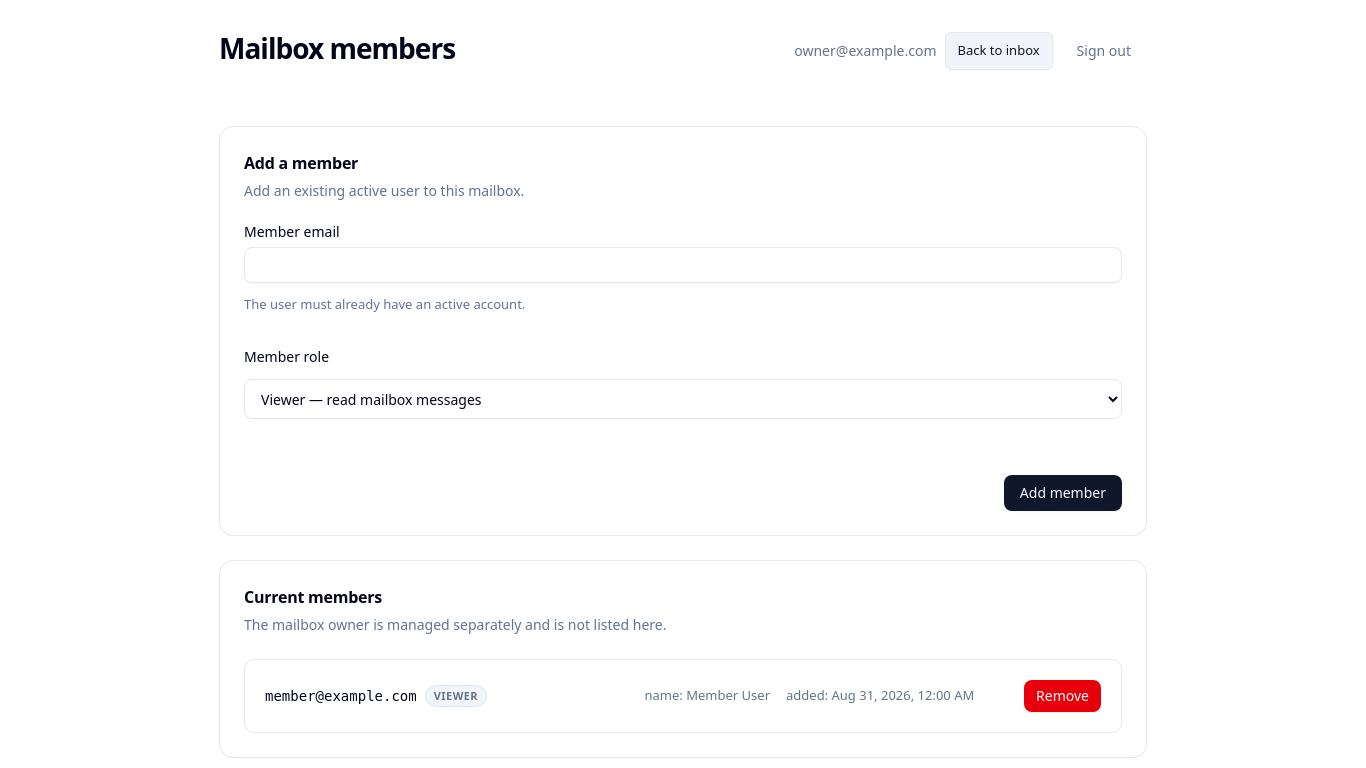
MailboxMembersPage — CAP-065 › R-API-002 R-API-003 keeps a member and exposes the remove error when deletion fails
The image size is (1366, 768).
Click the button "Remove": (1063, 696) left=1024, top=680, right=1101, bottom=712
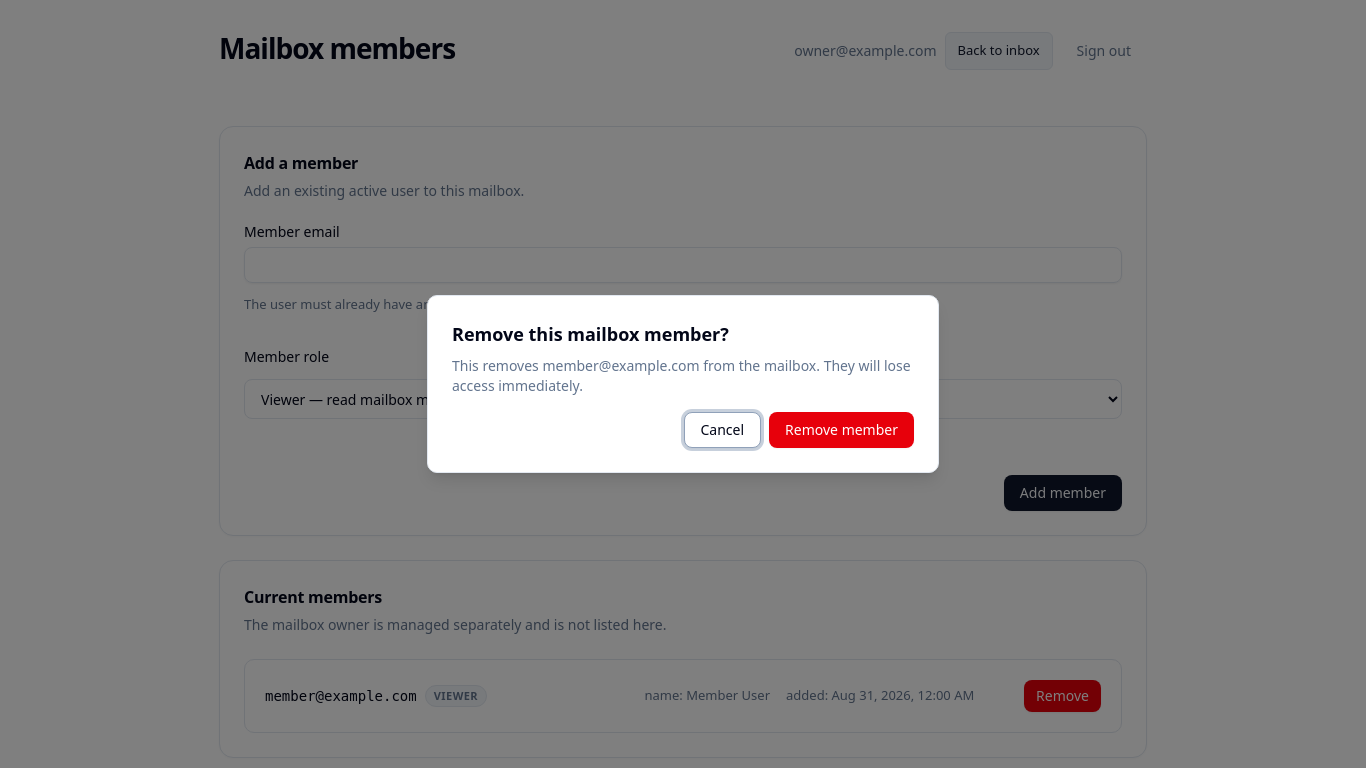
Click the button with test id "alert-dialog-confirm": (842, 430) left=769, top=412, right=914, bottom=448
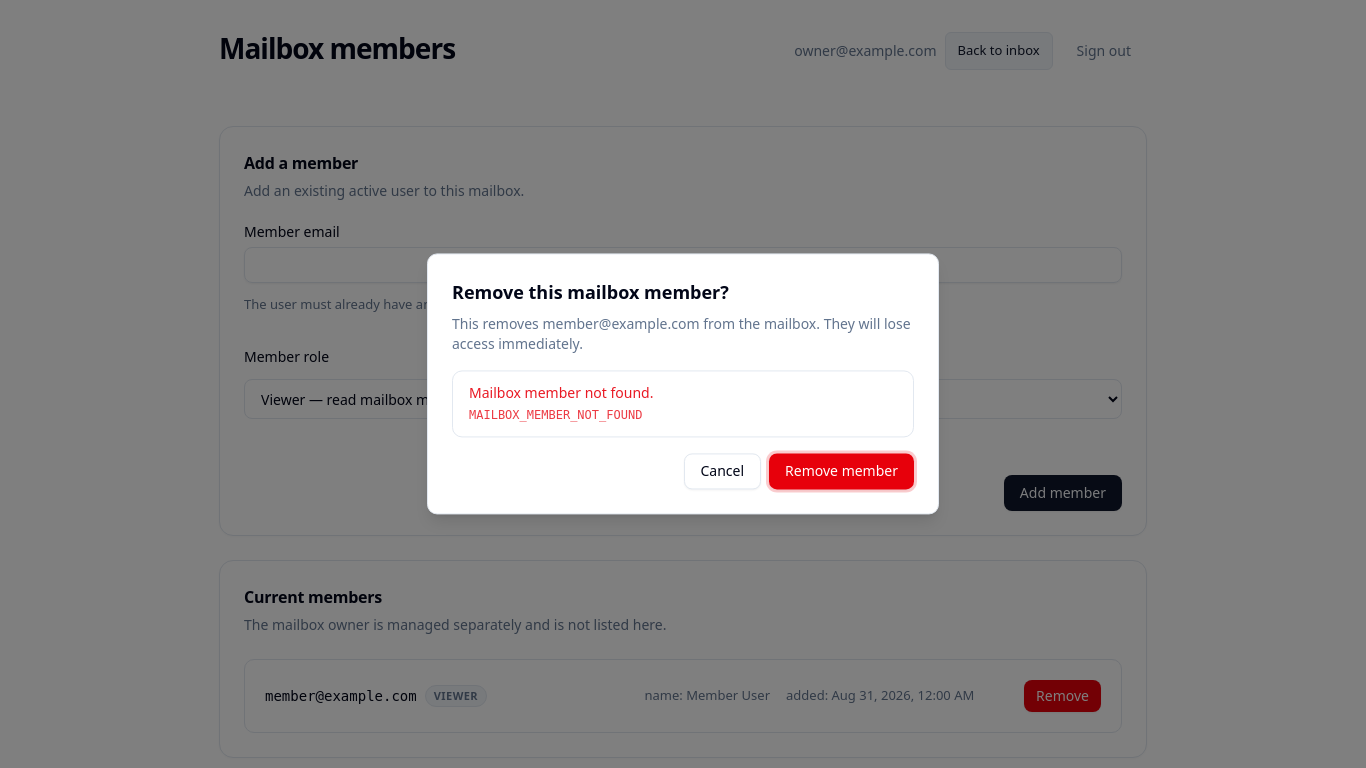
Now the message "Mailbox member not found. MAILBOX_MEMBER_NOT_FOUND" is shown, box left=452, top=370, right=914, bottom=438
Now the message with test id "alert-dialog-error" shows "MAILBOX_MEMBER_NOT_FOUND", box left=469, top=408, right=642, bottom=422
